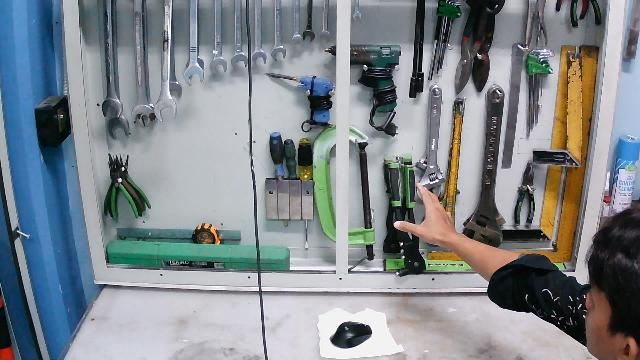tang_rivet: (384, 160, 429, 279)
